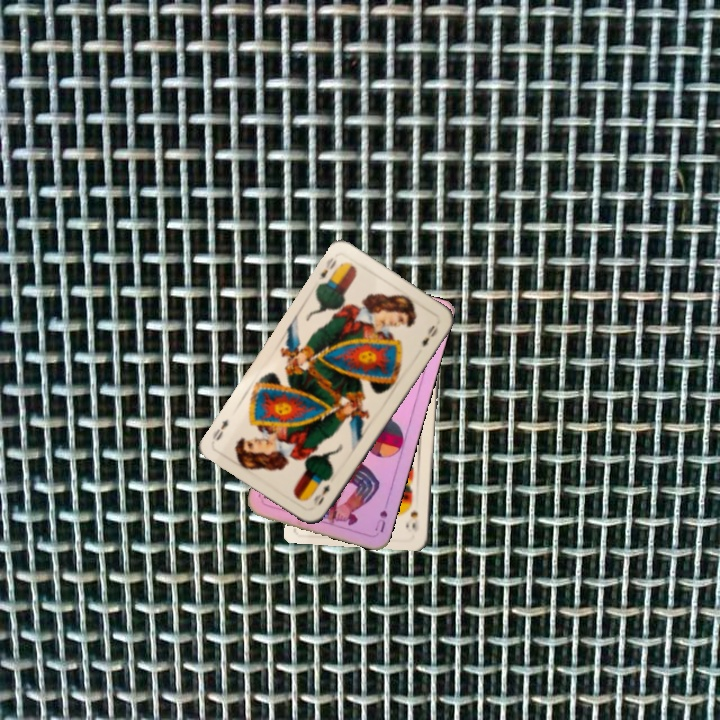EO: (314, 253, 339, 283), (309, 481, 332, 509)
S10: (408, 506, 421, 535)
SU: (371, 495, 391, 535)
